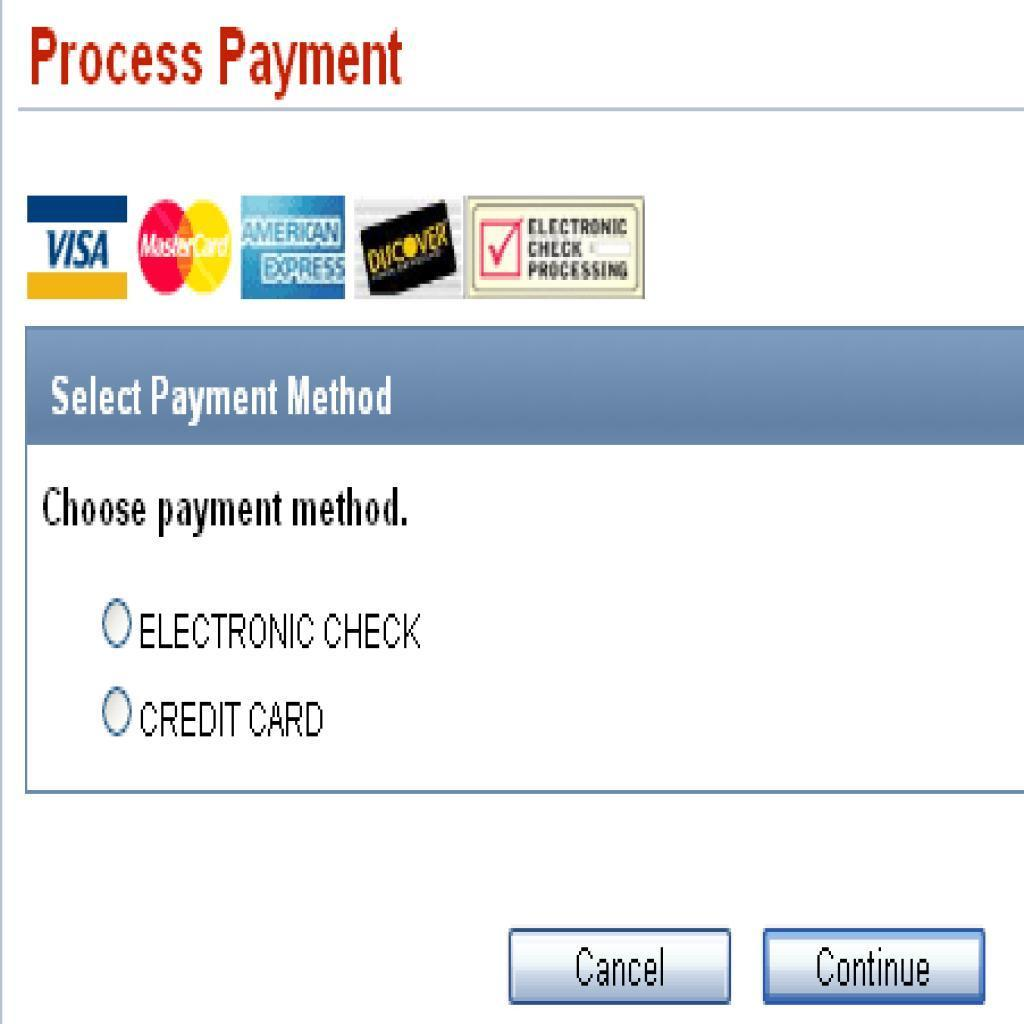button: (770, 934, 984, 1007), (507, 933, 727, 1003)
label: (40, 484, 416, 536), (143, 605, 422, 656), (143, 696, 330, 742)
radio: (102, 597, 138, 654), (101, 682, 133, 746)
